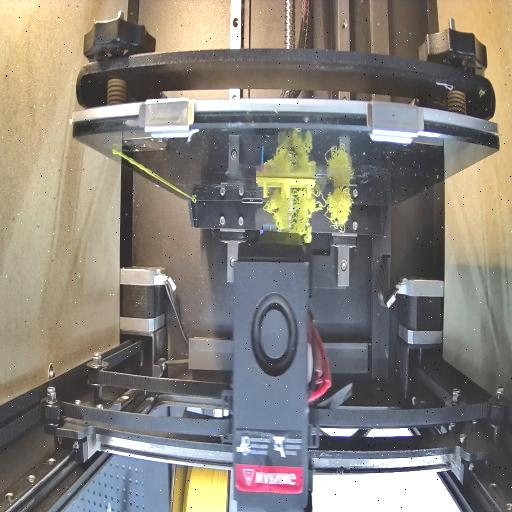spaghetti: (264, 190, 318, 244), (324, 186, 356, 228)
